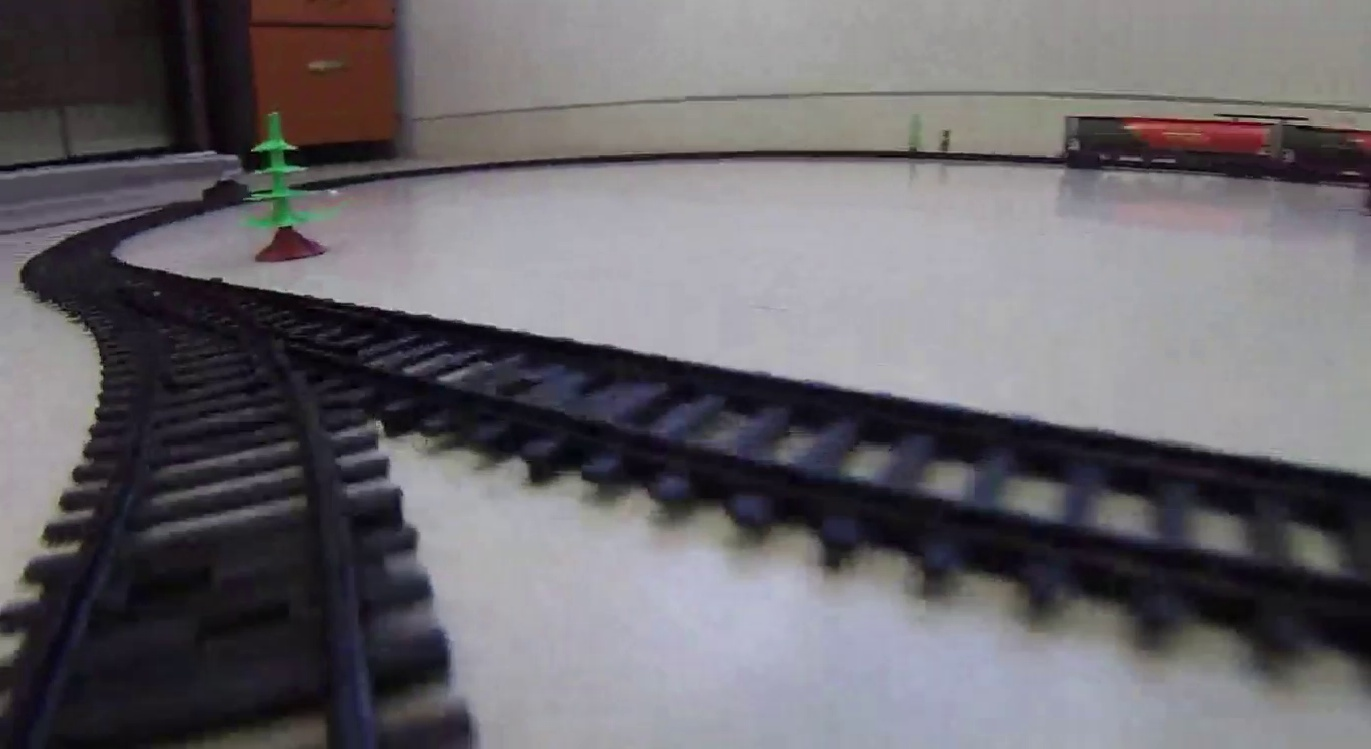tree: (243, 112, 332, 260)
